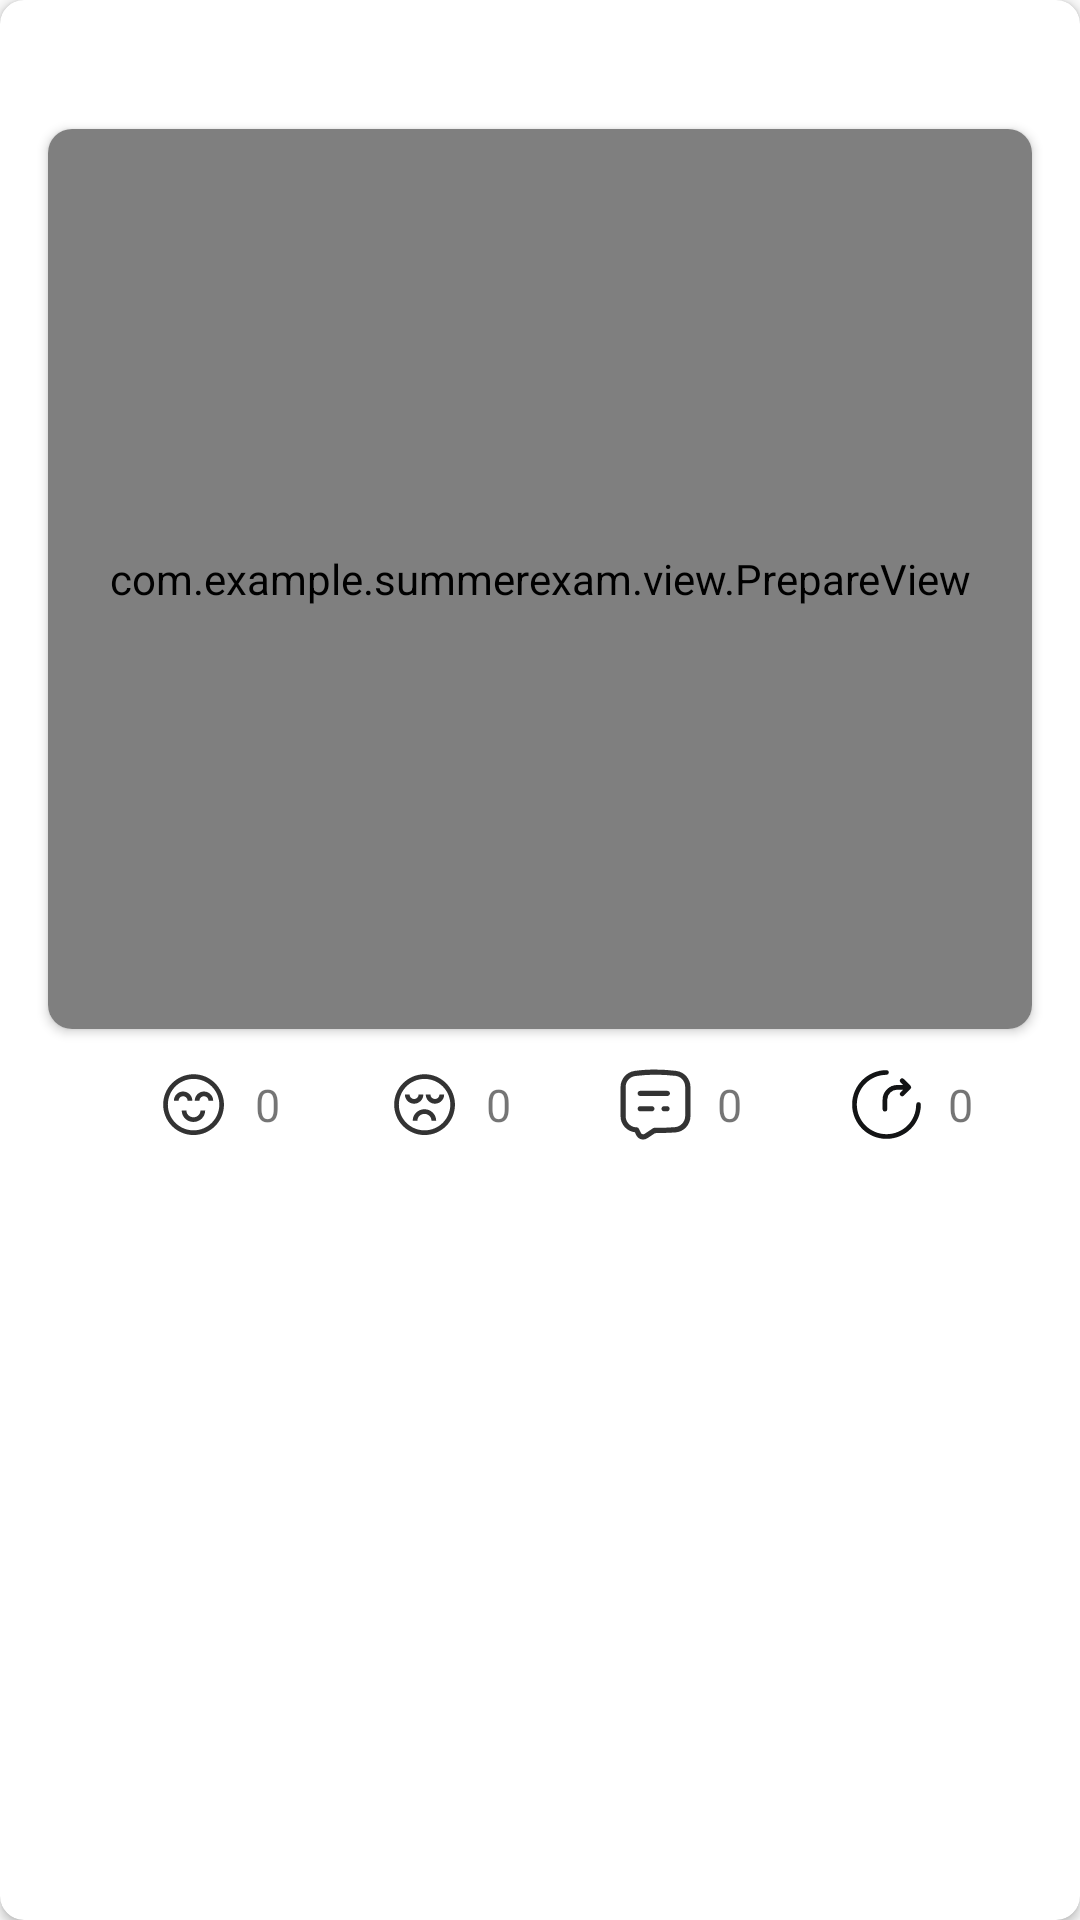

Where to tap for icons on this 1080×1920 app screen, as [x,y]:
comment: [655,1104]
dislike: [424,1104]
like: [193,1104]
share: [886,1104]
